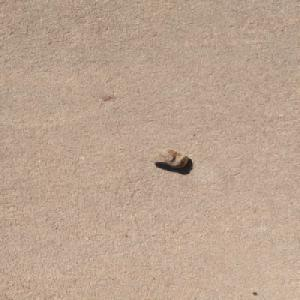Rock: (147, 147, 190, 168)
